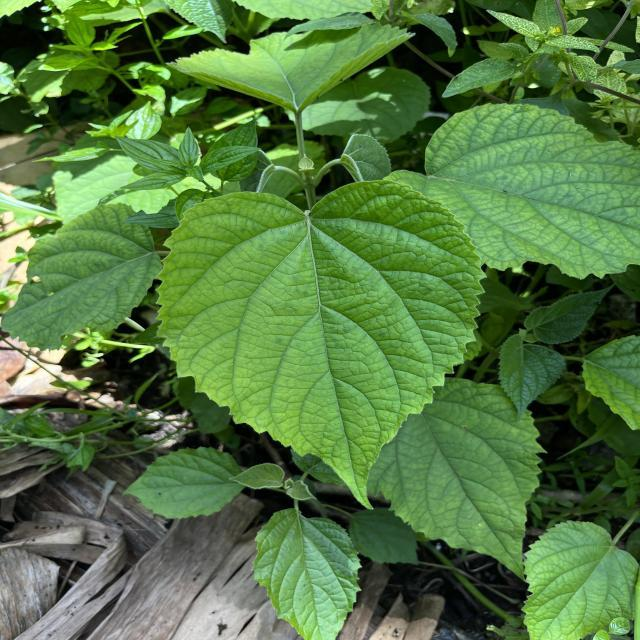Clerodendrum infortunatum: (148, 176, 492, 514), (378, 99, 640, 282), (364, 376, 553, 584), (1, 202, 164, 354)
